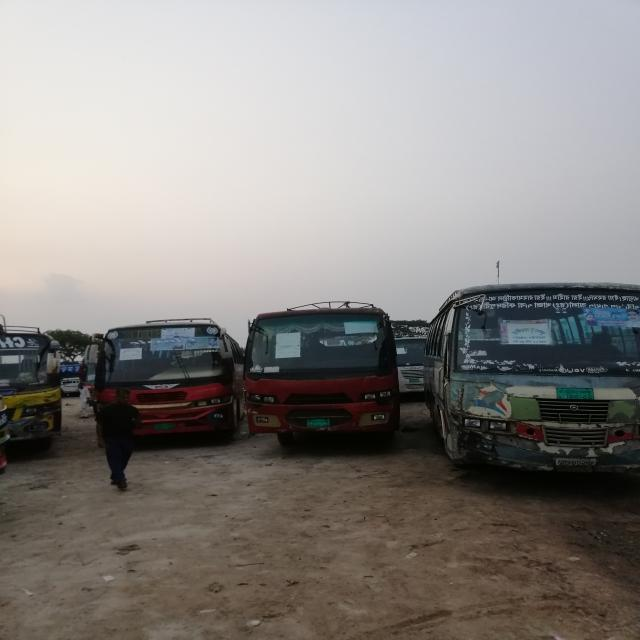Bus: (440, 280, 640, 483), (241, 300, 414, 443)
